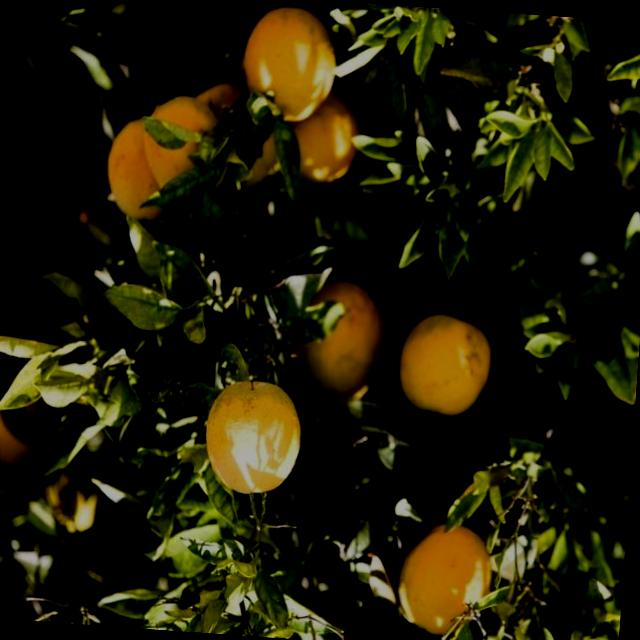Orange: (266, 264, 399, 418), (192, 354, 306, 504), (230, 0, 356, 134), (385, 506, 500, 638), (90, 102, 194, 236), (392, 304, 502, 426), (267, 70, 371, 192), (138, 90, 239, 213), (40, 443, 116, 538)
